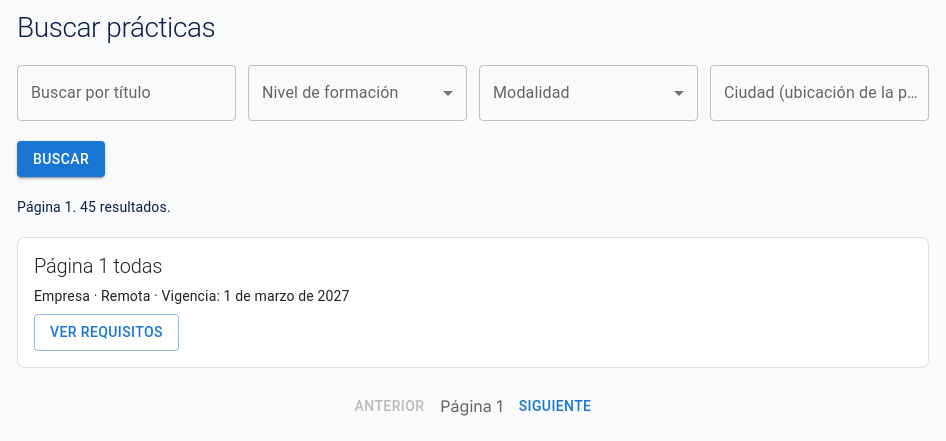
Test case: BuscarVacantes › «Siguiente» pagina con los filtros aplicados; «Buscar» aplica los nuevos desde la página 1
Check: the heading "Página 1 todas" is shown, box [34, 254, 162, 278]
# Se escribe la ciudad, pero no se pulsa «Buscar»: la página 2 sigue siendo de la consulta anterior.
Type "Bello" into the field labelled "Ciudad (ubicación de la práctica)". click: (820, 93)
box: [710, 65, 929, 121]
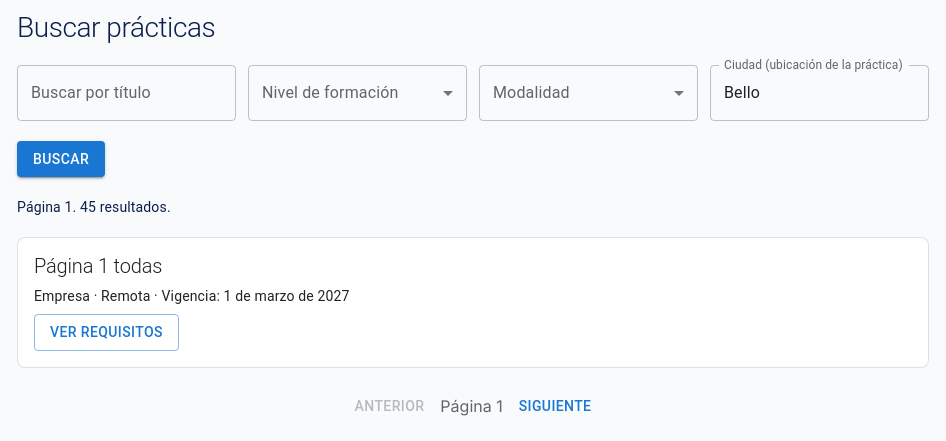
Click the button "Siguiente". click: (555, 406)
box: [511, 388, 599, 424]
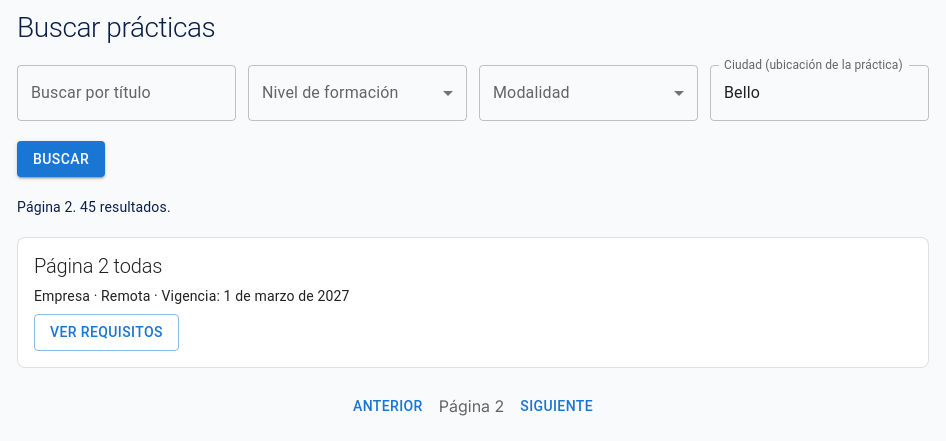
Check: the heading "Página 2 todas" is shown, box [34, 254, 162, 278]
Click the button "Buscar". click: (61, 159)
box: [17, 141, 105, 177]
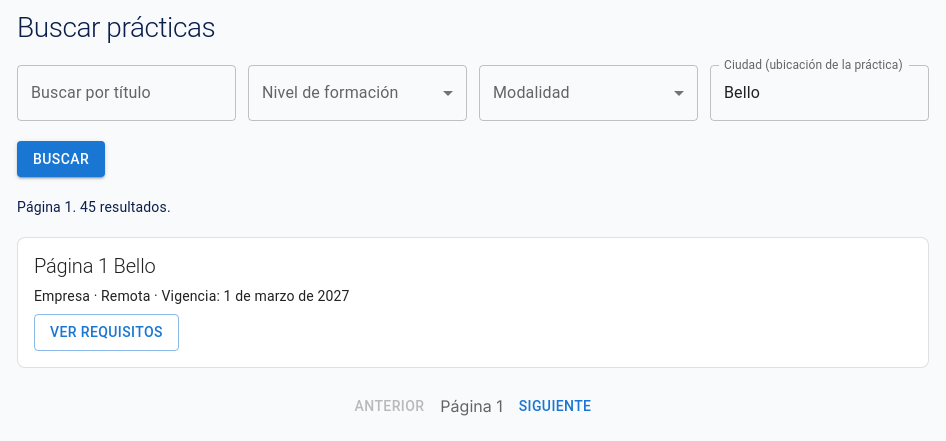
Check: the heading "Página 1 Bello" is shown, box [34, 254, 156, 278]
# Ya aplicado, la paginación lo conserva.
Click the button "Siguiente". click: (555, 406)
box: [511, 388, 599, 424]
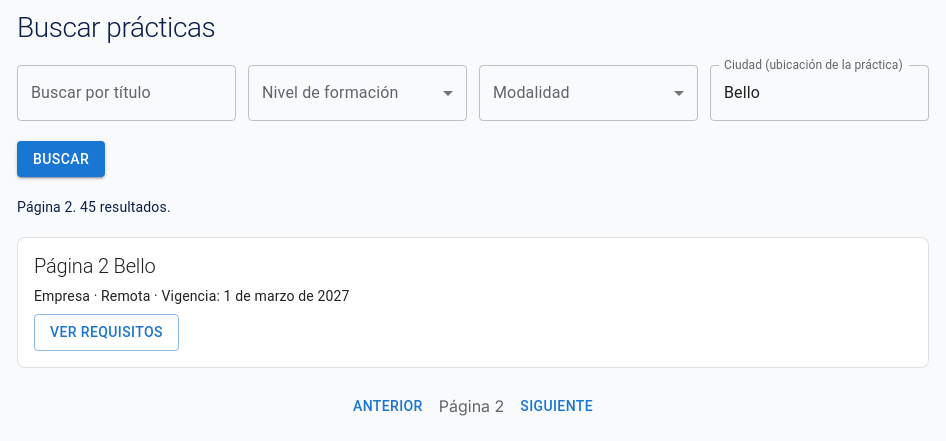
Check: the heading "Página 2 Bello" is shown, box [34, 254, 156, 278]
